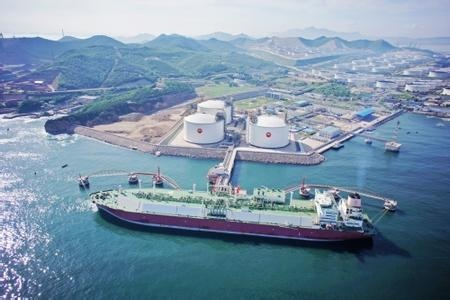Cargoship: (88, 182, 380, 241)
